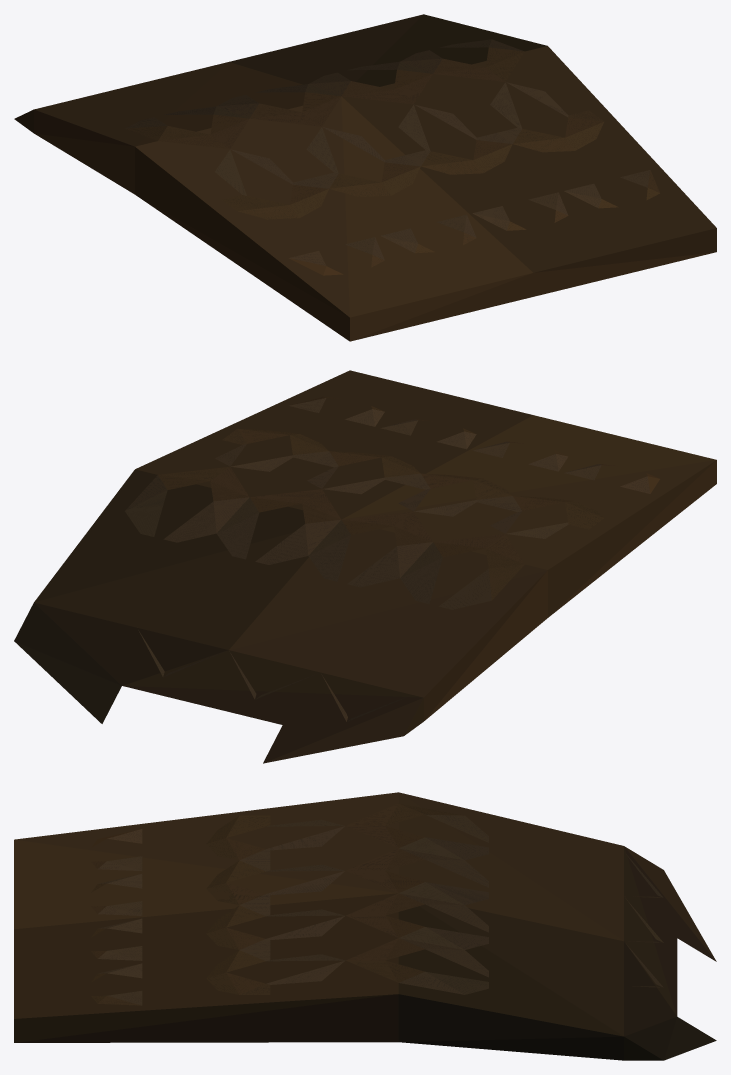
Rendered from bronze-chainbody.obj.
3 renders of one model, top to bottom at view 1: azimuth 30°, elevation 25°; view 2: azimuth 150°, elevation 25°; view 3: azimuth 270°, elevation 25°, orthographic.
Parts seen in each view (by area): view 1: Item Bronze chainbody 2026-09-24_18-09-22; view 2: Item Bronze chainbody 2026-09-24_18-09-22; view 3: Item Bronze chainbody 2026-09-24_18-09-22.
Part boxes in pixels (<box>): Item Bronze chainbody 2026-09-24_18-09-22: <box>14,14,716,341</box>; Item Bronze chainbody 2026-09-24_18-09-22: <box>14,370,716,763</box>; Item Bronze chainbody 2026-09-24_18-09-22: <box>14,792,716,1060</box>.
Bounding box in the file's own units: 36 × 9 × 53.
